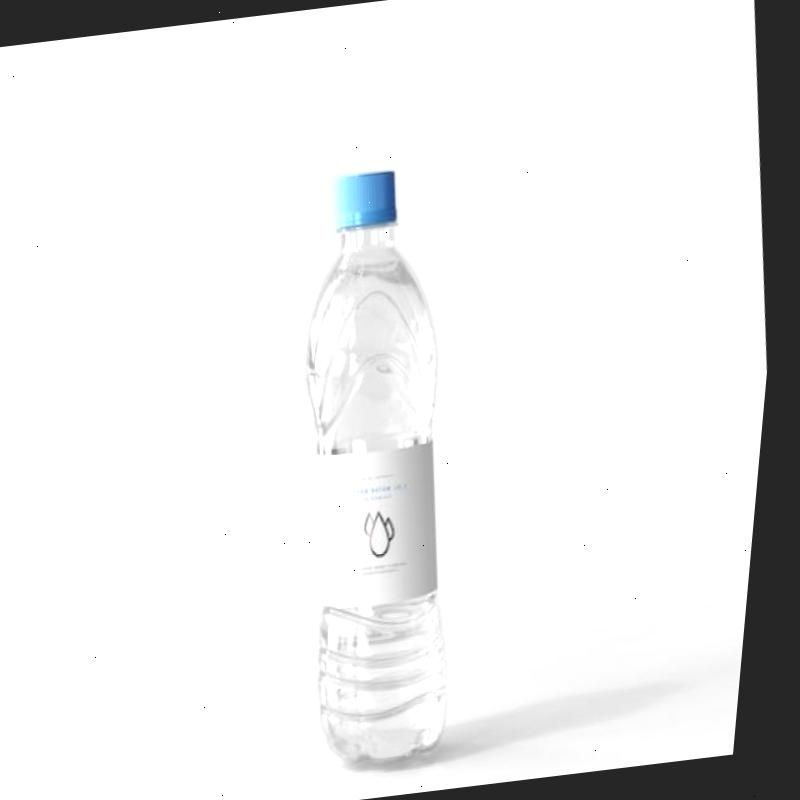botella: (260, 164, 503, 770)
